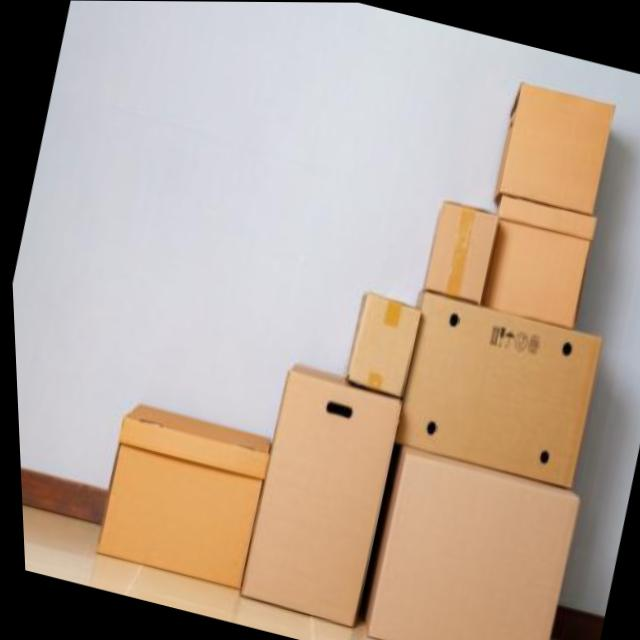box: (226, 363, 412, 629), (347, 448, 582, 640), (386, 293, 611, 491), (80, 391, 278, 600), (484, 74, 619, 217), (477, 192, 598, 327), (333, 279, 421, 394), (417, 188, 504, 301)
